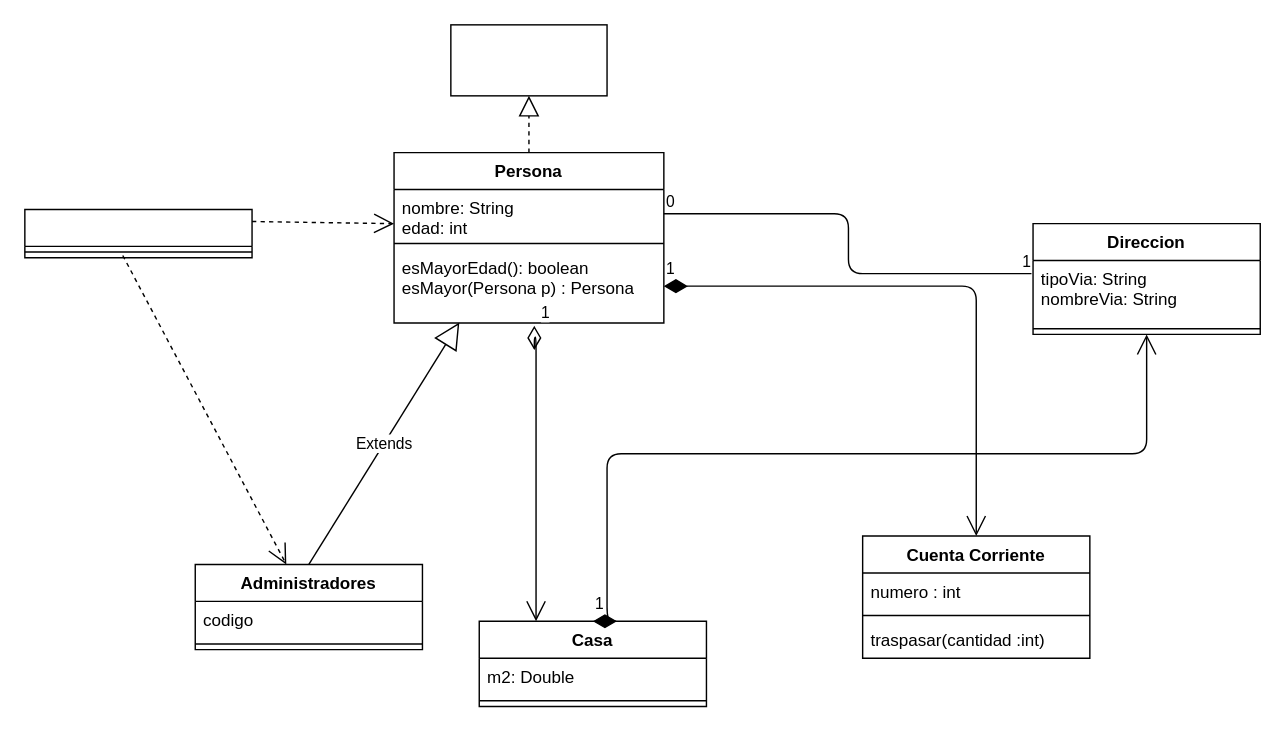
The diagram is 1285 pixels wide and 731 high, and some of its shapes have lost their labels. The centre of each missing label's shape, as x and y in pixels:
"Main" belongs at (137,233).
"«interface» Movible" belongs at (528,59).
